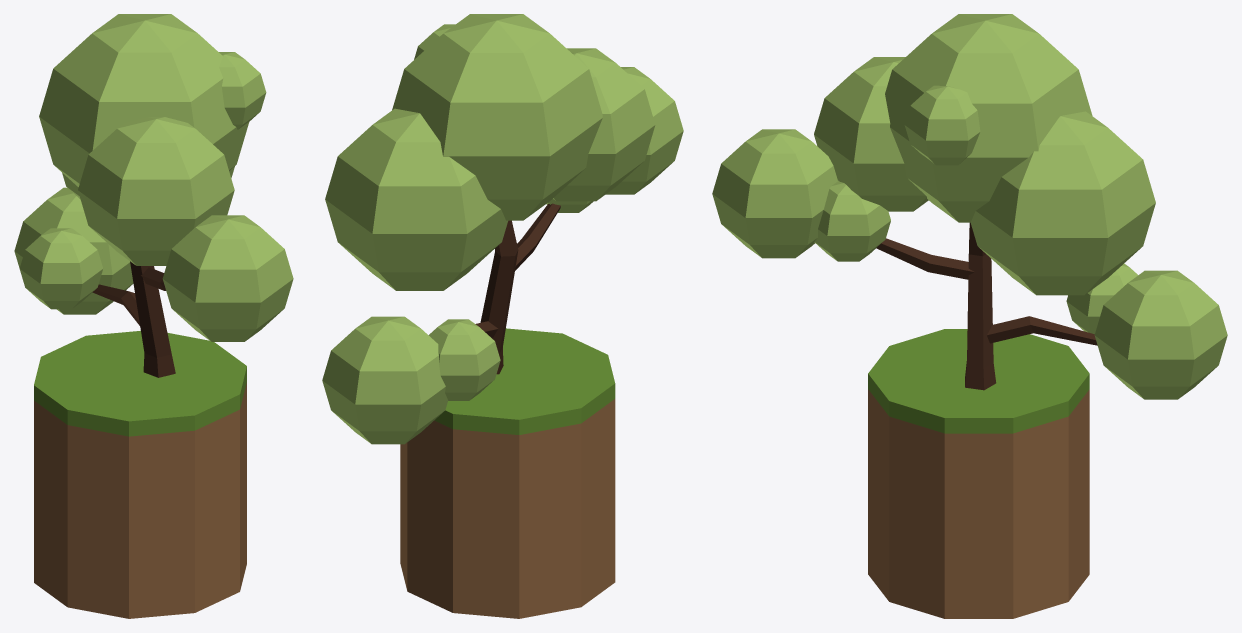
Rendered from environment.glb.
The picture shows the model from 3 angles, left to right: view 1: azimuth 30°, elevation 25°; view 2: azimuth 150°, elevation 25°; view 3: azimuth 270°, elevation 25°; orthographic projection.
Visible parts, largest first — view 1: tree_01, hill_pillar; view 2: tree_01, hill_pillar; view 3: tree_01, hill_pillar.
Part boxes in pixels (x1,y1,x2,y2): tree_01: [14, 14, 293, 377]; hill_pillar: [34, 330, 246, 618]; tree_01: [322, 14, 683, 444]; hill_pillar: [400, 328, 615, 618]; tree_01: [712, 14, 1227, 399]; hill_pillar: [868, 329, 1089, 618].
Bounding box in the file's own units: 10.99 × 27.77 × 23.26.
Materials: 1 (1 with a texture image).
